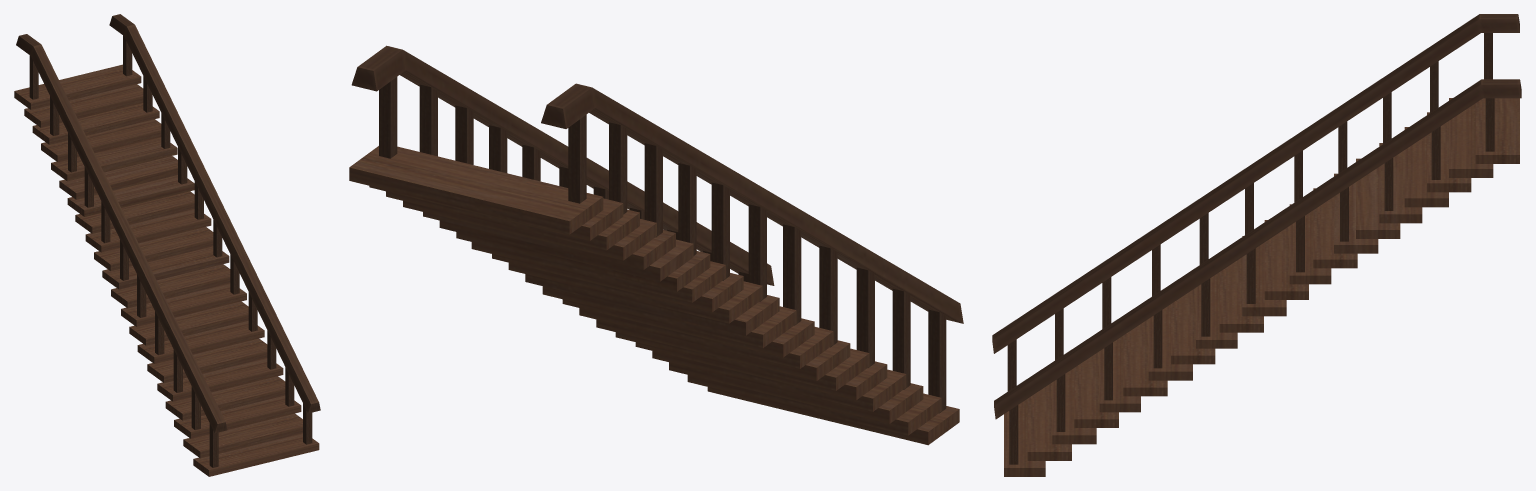
File: Stairs_1big.fbx
3 views of the same model, side by side, from view 1: azimuth 30°, elevation 25°; view 2: azimuth 150°, elevation 25°; view 3: azimuth 270°, elevation 25° (orthographic). The views are drawn at different scales.
Visible parts, largest first — view 1: polySurface1483; view 2: polySurface1483; view 3: polySurface1483.
Boxes of the visible parts, x1=… form: polySurface1483: x1=14, y1=14, x2=320, y2=476; polySurface1483: x1=349, y1=45, x2=963, y2=445; polySurface1483: x1=992, y1=14, x2=1521, y2=476.
Bounding box in the file's own units: 3.8 × 9.81 × 11.94.
